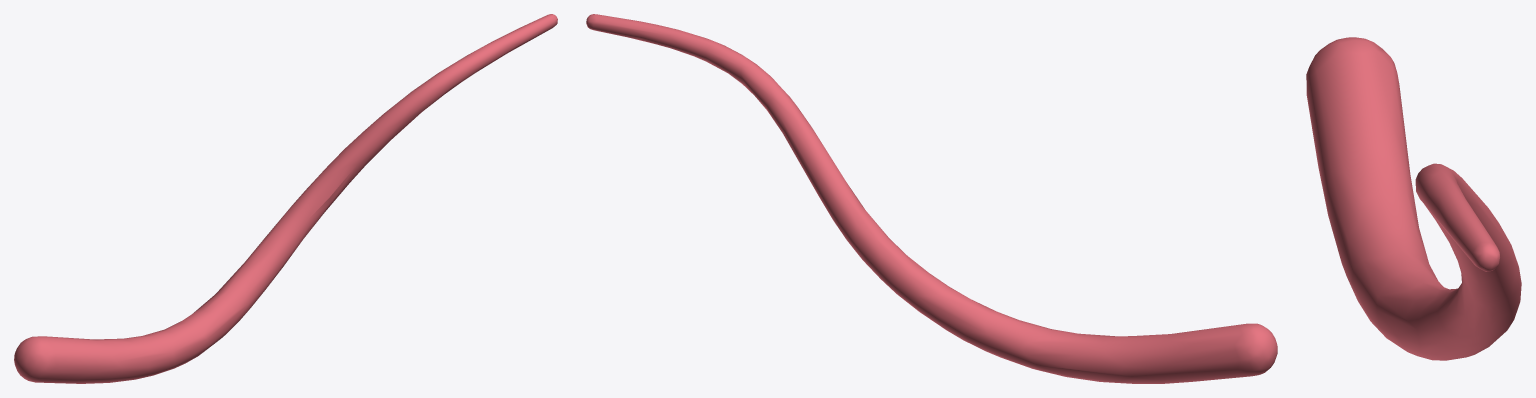
The model's file is fma23069_fj2211.glb.
The picture shows the model from 3 angles, left to right: view 1: azimuth 30°, elevation 25°; view 2: azimuth 150°, elevation 25°; view 3: azimuth 270°, elevation 25°; orthographic projection. The views are drawn at different scales.
Parts seen in each view (by area): view 1: FMA23069_FJ2211; view 2: FMA23069_FJ2211; view 3: FMA23069_FJ2211.
Boxes of the visible parts, box(x1,y1,x2,y2) form: FMA23069_FJ2211: box(14, 14, 557, 383); FMA23069_FJ2211: box(586, 14, 1277, 383); FMA23069_FJ2211: box(1306, 37, 1521, 360).
Bounding box in the file's own units: 0.0441 × 0.0175 × 0.00718.
